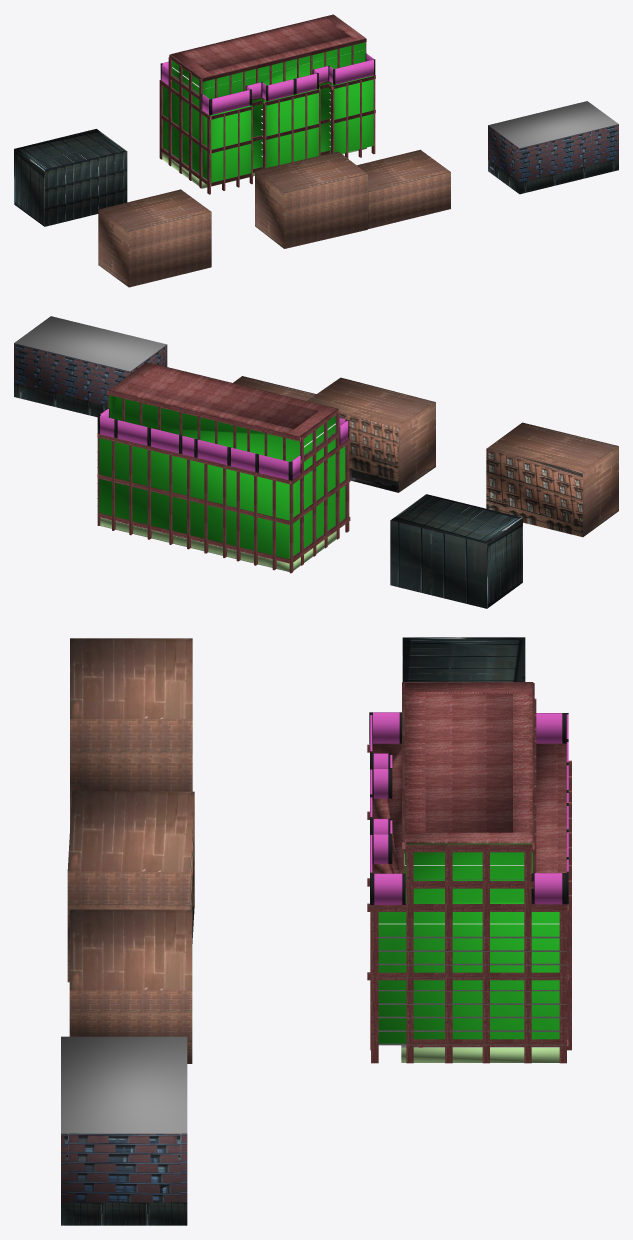
The model's file is buildingOBJ.obj.
The picture shows the model from 3 angles, top to bottom: view 1: azimuth 30°, elevation 25°; view 2: azimuth 150°, elevation 25°; view 3: azimuth 270°, elevation 25°; orthographic projection. The views are drawn at different scales.
Parts seen in each view (by area): view 1: Building, Tesco, Coop, Monkey, Coop001, Pizza, Box129, Box180, Box182, Box184, Box073, Box185 (+2 smaller); view 2: Building, Coop001, Coop, Tesco, Monkey, Bottom, Box127, Box113, Box114, Box115, Pizza, Box194 (+10 smaller); view 3: Building, Tesco, Coop, Pizza, Monkey, Coop001, Bottom, GlassBarrier, Box056, Box058, Box051, Box055 (+9 smaller).
Boxes of the visible parts, bbox=[...] form: Building: bbox=[163, 14, 373, 182]; Tesco: bbox=[488, 101, 618, 194]; Coop: bbox=[98, 189, 211, 287]; Monkey: bbox=[255, 151, 367, 248]; Coop001: bbox=[14, 129, 127, 226]; Pizza: bbox=[357, 149, 450, 228]; Box129: bbox=[202, 38, 366, 81]; Box180: bbox=[333, 59, 375, 84]; Box182: bbox=[210, 89, 251, 114]; Box184: bbox=[266, 79, 294, 101]; Box073: bbox=[168, 57, 171, 166]; Box185: bbox=[295, 73, 318, 94]; Building: bbox=[99, 362, 345, 558]; Coop001: bbox=[390, 494, 522, 608]; Coop: bbox=[486, 422, 618, 537]; Tesco: bbox=[14, 316, 167, 417]; Monkey: bbox=[307, 377, 435, 492]; Bottom: bbox=[100, 517, 336, 571]; Box127: bbox=[108, 390, 300, 441]; Box113: bbox=[98, 513, 289, 563]; Box114: bbox=[98, 474, 289, 524]; Box115: bbox=[98, 434, 290, 484]; Pizza: bbox=[233, 376, 316, 400]; Box194: bbox=[257, 454, 290, 480]; Building: bbox=[372, 683, 566, 1043]; Tesco: bbox=[61, 1036, 187, 1225]; Coop: bbox=[70, 638, 192, 827]; Pizza: bbox=[69, 909, 192, 1063]; Monkey: bbox=[67, 790, 194, 982]; Coop001: bbox=[402, 637, 525, 682]; Bottom: bbox=[401, 1045, 559, 1062]; GlassBarrier: bbox=[531, 713, 566, 904]; Box056: bbox=[445, 847, 452, 1063]; Box058: bbox=[524, 847, 531, 1063]; Box051: bbox=[406, 847, 413, 1063]; Box055: bbox=[482, 847, 489, 1063].
Size of what is drawn, in the model's own units: 16400 by 3539 by 7421.
Materials: 25 (9 with a texture image).
